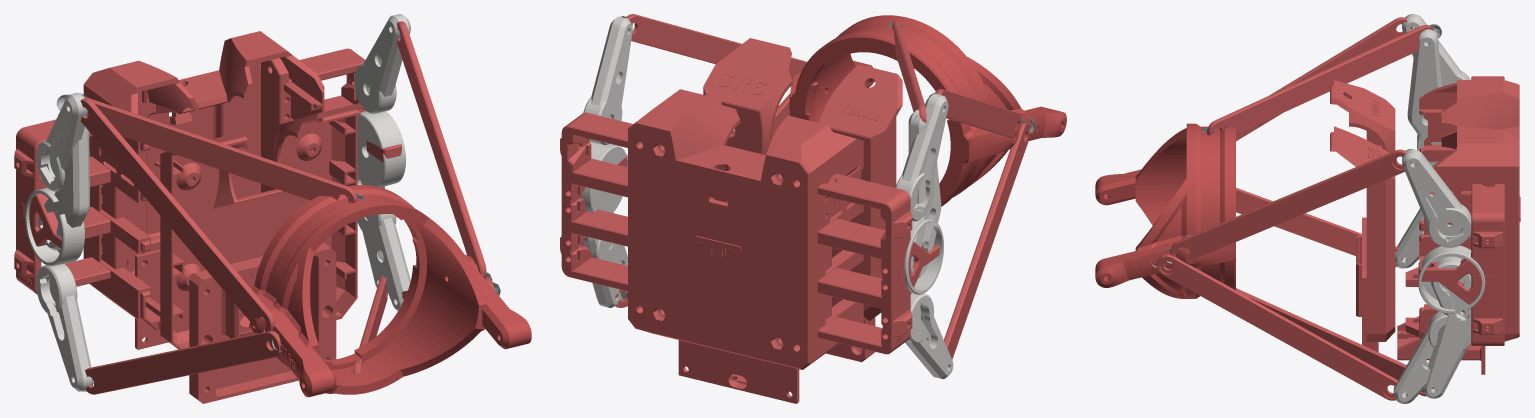
File: ORS6_native_full.glb
3 views of the same model, side by side, from view 1: azimuth 30°, elevation 25°; view 2: azimuth 150°, elevation 25°; view 3: azimuth 270°, elevation 25° (orthographic). The views are drawn at different scales.
Visible parts, largest first — view 1: Receiver, Base, Lid, Shield, L_Frame, Rod_LeftPitch, Rod_LowerLeft, Rod_UpperLeft, R_Frame, L_Pitcher, Arm_UpperLeft, Rod_LowerRight (+6 smaller); view 2: Base, Receiver, Lid, L_Frame, R_Frame, Tray, Rod_UpperLeft, Arm_LowerLeft, Rod_LowerRight, Arm_LowerRight, L_Pitcher, Arm_UpperLeft (+5 smaller); view 3: Receiver, Base, Lid, R_Frame, Rod_UpperRight, Rod_LowerRight, Rod_LeftPitch, R_Pitcher, Arm_LowerRight, L_Pitcher, Rod_UpperLeft, Arm_UpperRight (+6 smaller).
Part boxes in pixels (x1=…): Receiver: x1=250, y1=185, x2=531, y2=397; Base: x1=83, y1=31, x2=324, y2=331; Lid: x1=160, y1=103, x2=363, y2=349; Shield: x1=189, y1=242, x2=336, y2=403; L_Frame: x1=14, y1=119, x2=127, y2=294; Rod_LeftPitch: x1=86, y1=97, x2=357, y2=202; Rod_LowerLeft: x1=80, y1=98, x2=275, y2=331; Rod_UpperLeft: x1=85, y1=330, x2=280, y2=394; R_Frame: x1=261, y1=48, x2=401, y2=192; L_Pitcher: x1=25, y1=127, x2=89, y2=266; Arm_UpperLeft: x1=36, y1=264, x2=93, y2=391; Rod_LowerRight: x1=397, y1=21, x2=486, y2=278; Base: x1=628, y1=89, x2=863, y2=369; Receiver: x1=789, y1=15, x2=1066, y2=206; Lid: x1=703, y1=38, x2=902, y2=320; L_Frame: x1=817, y1=173, x2=939, y2=354; R_Frame: x1=560, y1=112, x2=633, y2=291; Tray: x1=678, y1=340, x2=799, y2=403; Rod_UpperLeft: x1=944, y1=122, x2=1029, y2=359; Arm_LowerLeft: x1=895, y1=93, x2=948, y2=221; Rod_LowerRight: x1=625, y1=14, x2=806, y2=79; Arm_LowerRight: x1=583, y1=16, x2=632, y2=144; L_Pitcher: x1=904, y1=109, x2=943, y2=294; Arm_UpperLeft: x1=905, y1=293, x2=953, y2=379; Receiver: x1=1095, y1=123, x2=1235, y2=298; Base: x1=1405, y1=80, x2=1519, y2=341; Lid: x1=1330, y1=80, x2=1395, y2=341; R_Frame: x1=1418, y1=184, x2=1504, y2=345; Rod_UpperRight: x1=1156, y1=254, x2=1402, y2=400; Rod_LowerRight: x1=1170, y1=149, x2=1412, y2=262; Rod_LeftPitch: x1=1207, y1=25, x2=1434, y2=135; R_Pitcher: x1=1418, y1=245, x2=1485, y2=398; Arm_LowerRight: x1=1402, y1=149, x2=1471, y2=247; L_Pitcher: x1=1407, y1=29, x2=1441, y2=166; Rod_UpperLeft: x1=1236, y1=188, x2=1403, y2=267; Arm_UpperRight: x1=1393, y1=311, x2=1471, y2=403.
Size of the model in its own units: 220 by 186 by 267.
